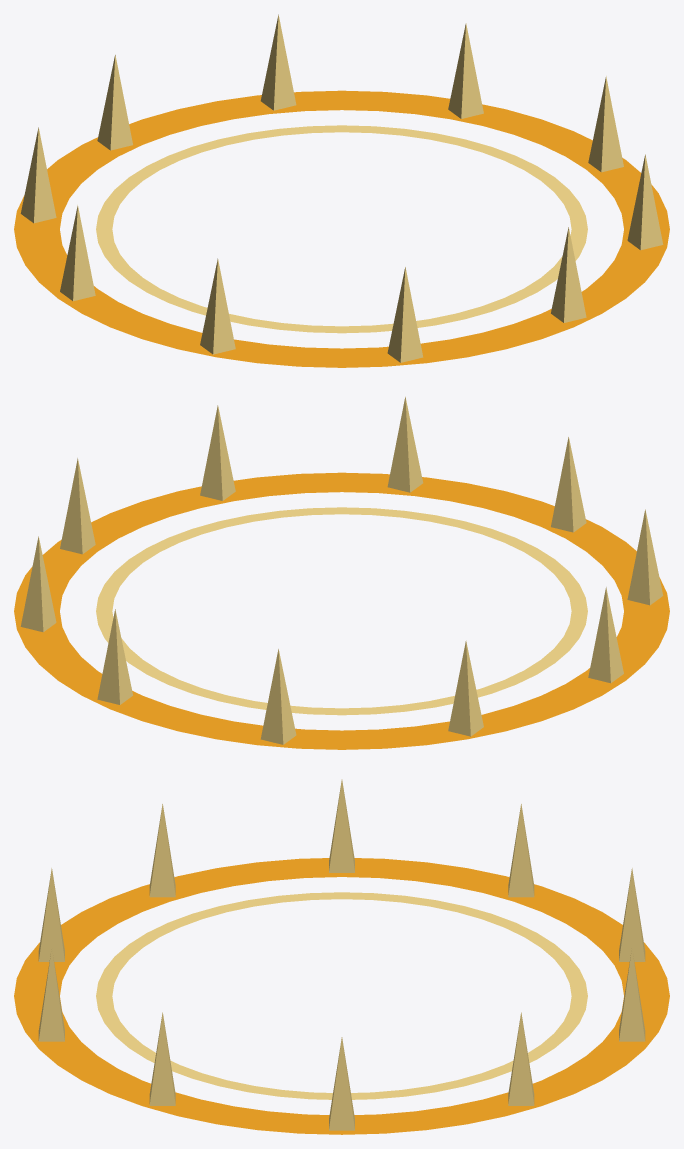
File: rarity_legendary.glb
3 renders of one model, top to bottom at view 1: azimuth 30°, elevation 25°; view 2: azimuth 150°, elevation 25°; view 3: azimuth 270°, elevation 25°, orthographic.
Visible parts, largest first — view 1: rarity_legendary; view 2: rarity_legendary; view 3: rarity_legendary.
Part boxes in pixels (bbox=[...]): rarity_legendary: bbox=[14, 14, 669, 367]; rarity_legendary: bbox=[14, 396, 669, 749]; rarity_legendary: bbox=[14, 779, 669, 1134].
Bounding box in the file's own units: 2 × 0.3 × 2.
1 material, 1 textured.
